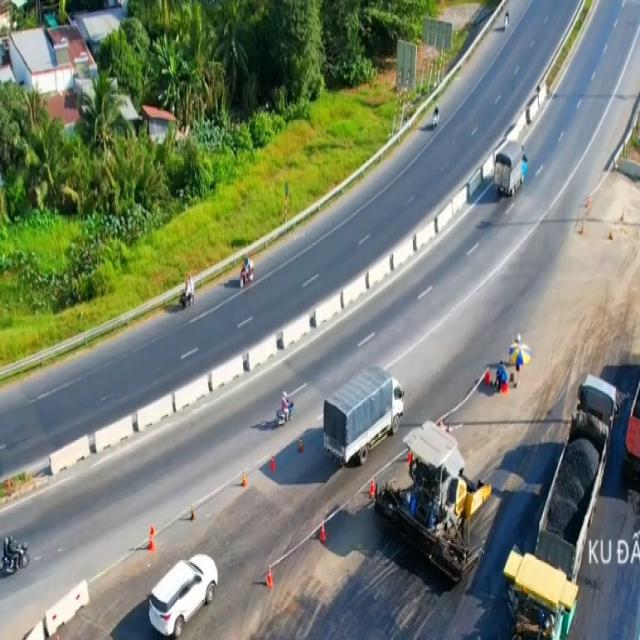car: (149, 555, 222, 639)
motorbike: (0, 532, 31, 580), (276, 390, 293, 427), (238, 253, 254, 288), (180, 276, 195, 310)
truck: (322, 367, 406, 466), (494, 139, 529, 201)
